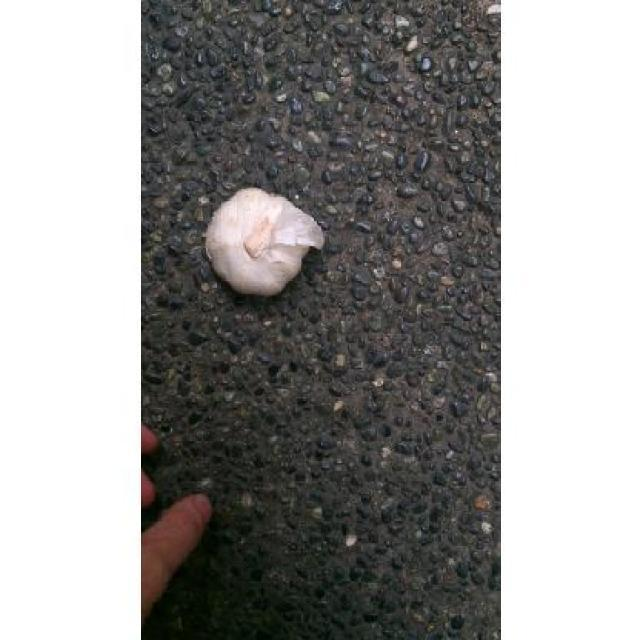garlic: (206, 188, 324, 294)
